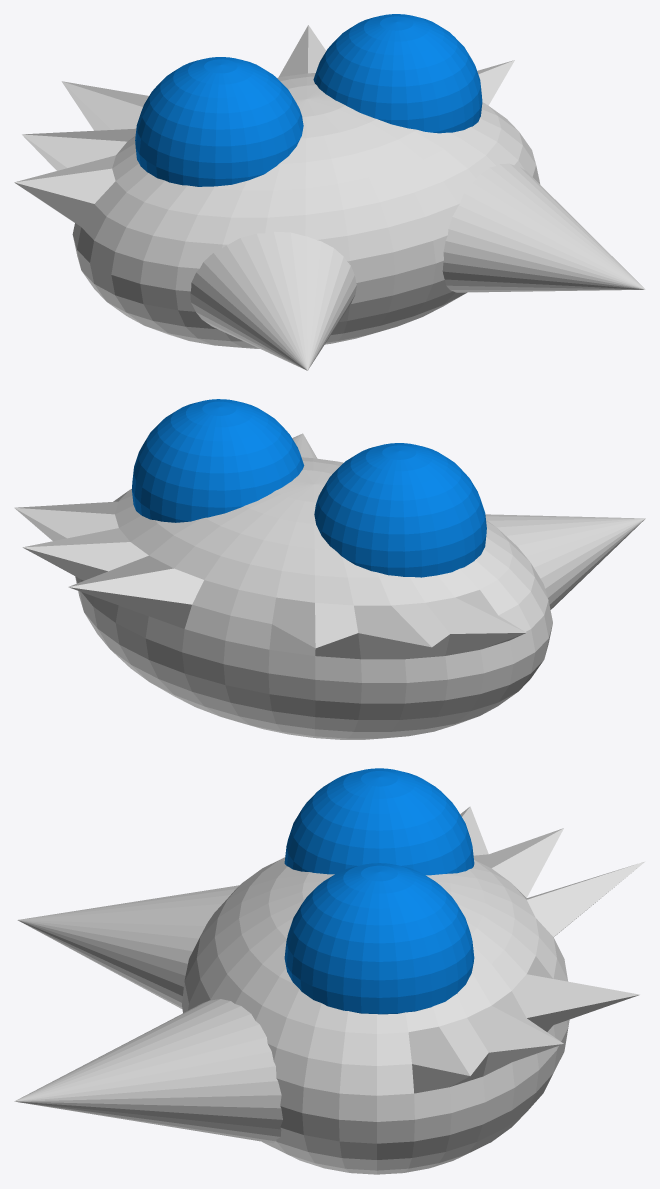
File: cat-1.fbx
3 views of the same model, one above another, from view 1: azimuth 30°, elevation 25°; view 2: azimuth 150°, elevation 25°; view 3: azimuth 270°, elevation 25° (orthographic). The views are drawn at different scales.
Parts seen in each view (by area): view 1: Body, Eye2, Ear1, Ear2, Eye1; view 2: Body, Eye2, Eye1, Ear2; view 3: Body, Eye1, Ear1, Eye2, Ear2.
Part boxes in pixels (box(x1,y1,x2,y2)): Body: box(14, 25, 540, 348); Eye2: box(135, 57, 303, 186); Ear1: box(442, 163, 645, 292); Ear2: box(190, 231, 356, 370); Eye1: box(313, 14, 482, 133); Body: box(14, 457, 552, 739); Eye2: box(314, 443, 486, 577); Eye1: box(131, 399, 304, 522); Ear2: box(485, 514, 645, 609); Body: box(182, 806, 645, 1174); Eye1: box(284, 863, 474, 1014); Ear1: box(14, 999, 282, 1143); Eye2: box(284, 768, 474, 875); Ear2: box(17, 885, 239, 1008).
Bounding box in the file's own units: 472 × 249 × 466.
